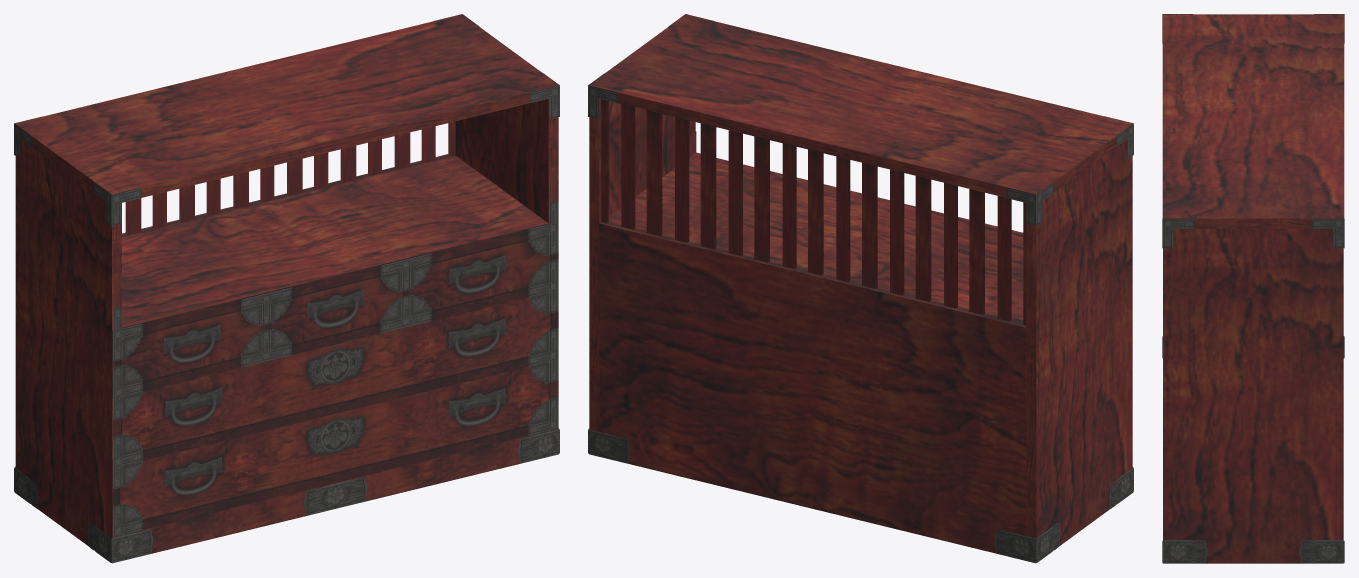
Rendered from Shelf02.fbx.
3 renders of one model, left to right at view 1: azimuth 30°, elevation 25°; view 2: azimuth 150°, elevation 25°; view 3: azimuth 270°, elevation 25°, orthographic. The views are drawn at different scales.
Visible parts, largest first — view 1: Shelf02; view 2: Shelf02; view 3: Shelf02.
Part boxes in pixels (box(x1,y1,x2,y2)): Shelf02: box(14, 14, 559, 563); Shelf02: box(588, 14, 1133, 563); Shelf02: box(1162, 14, 1344, 563).
Bounding box in the file's own units: 175 × 138 × 65.8.
